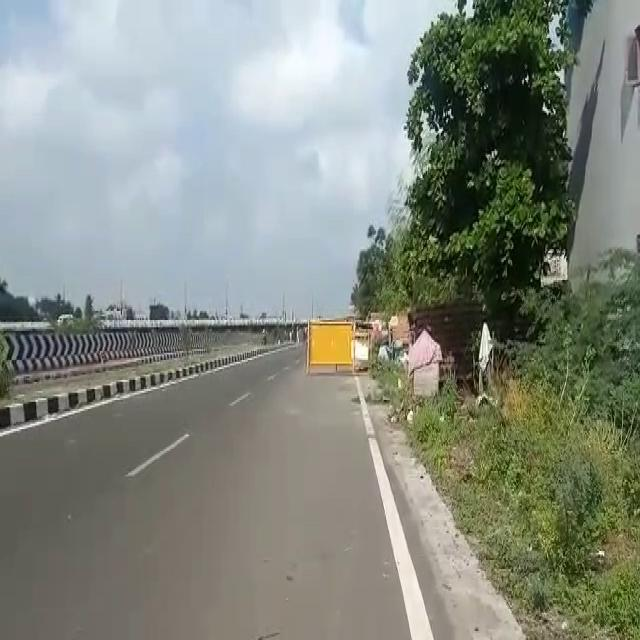fallen_object: (287, 307, 373, 385)
